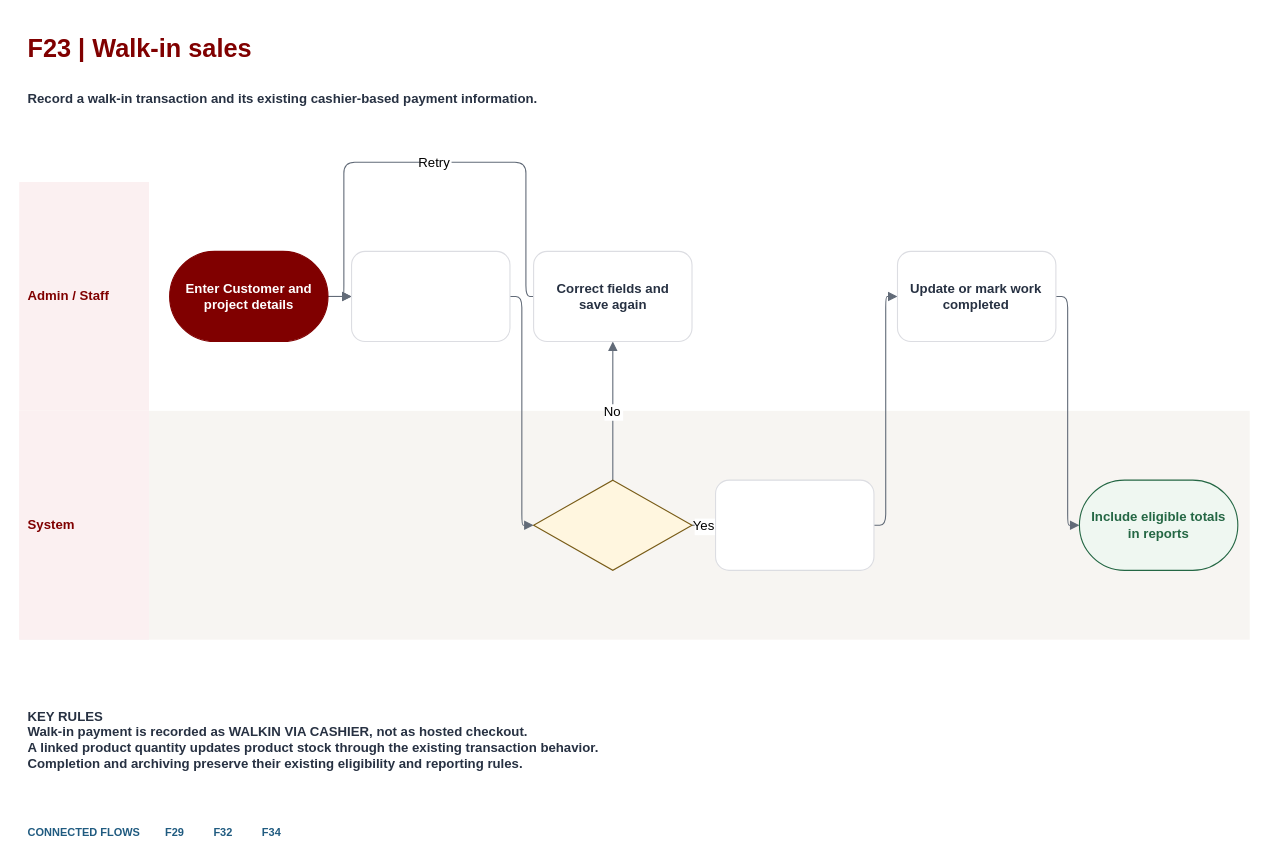
Image size: 1268x860. Some labels were removed from this diagram. The shapes that lost their labels are listed below. From the top down, each one's box as (x1, y1, x2, y2) in pixels, then its label:
(350, 250, 510, 342): Select item, cost and cashier record
(533, 479, 692, 570): Record valid?
(714, 479, 874, 570): Save sale; adjust linked stock
